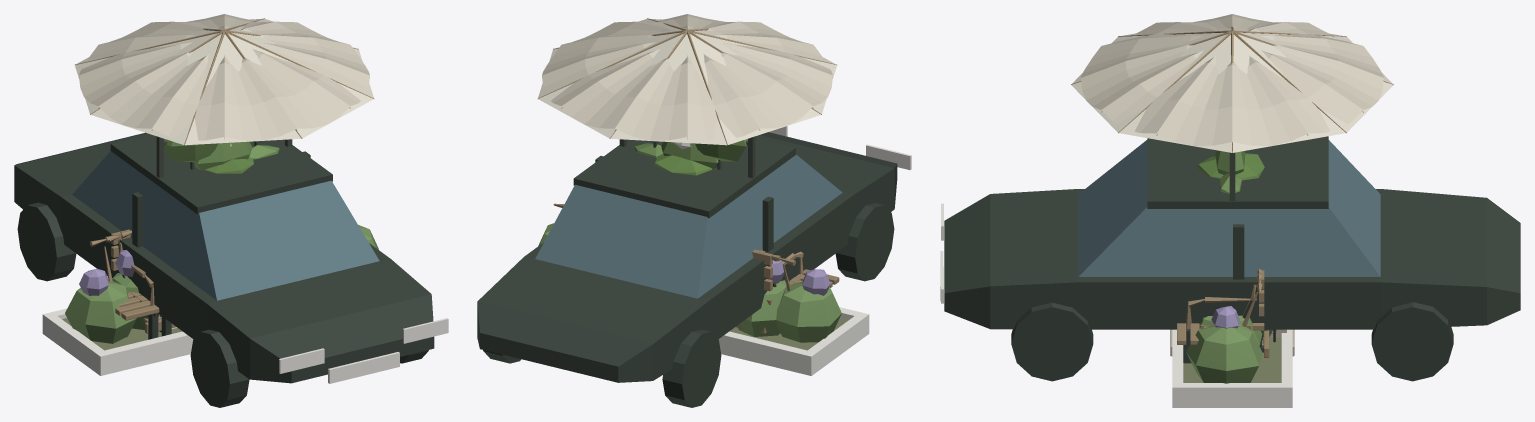
File: estate-detail.glb
The picture shows the model from 3 angles, left to right: view 1: azimuth 30°, elevation 25°; view 2: azimuth 150°, elevation 25°; view 3: azimuth 270°, elevation 25°; orthographic projection. The views are drawn at different scales.
Parts seen in each view (by area): view 1: arrival-car frame, tailored canvas combined, arrival-car car_glass, garden-parasol wall_render, garden-border leaf_broadleaf, garden-border stone_detail, arrival-car metal_pale, garden-trellis leaf_broadleaf, arm.001 combined, garden-parasol timber, garden-border surface_planted_beds, clipped bay combined light (+2 smaller); view 2: arrival-car frame, tailored canvas combined, arrival-car car_glass, garden-border leaf_broadleaf, garden-parasol wall_render, garden-border stone_detail, garden-trellis leaf_broadleaf, garden-parasol timber, clipped bay combined light, arrival-car metal_pale, arm.001 combined, garden-border surface_planted_beds (+2 smaller); view 3: arrival-car frame, tailored canvas combined, arrival-car car_glass, garden-parasol wall_render, garden-border leaf_broadleaf, garden-border stone_detail, garden-parasol timber, garden-border surface_planted_beds, arm.001 combined, clipped bay combined light, garden-trellis leaf_broadleaf.
Part boxes in pixels (<box>): arrival-car frame: <box>14,132,434,407</box>; tailored canvas combined: <box>79,14,369,140</box>; arrival-car car_glass: <box>72,151,379,300</box>; garden-parasol wall_render: <box>75,18,373,145</box>; garden-border leaf_broadleaf: <box>65,225,378,343</box>; garden-border stone_detail: <box>42,308,193,375</box>; arrival-car metal_pale: <box>279,318,448,383</box>; garden-trellis leaf_broadleaf: <box>164,139,279,170</box>; arm.001 combined: <box>90,230,159,320</box>; garden-parasol timber: <box>75,18,374,145</box>; garden-border surface_planted_beds: <box>62,318,182,350</box>; clipped bay combined light: <box>195,157,253,173</box>; arrival-car frame: <box>477,132,897,407</box>; tailored canvas combined: <box>542,14,832,140</box>; arrival-car car_glass: <box>535,154,842,298</box>; garden-border leaf_broadleaf: <box>538,223,841,342</box>; garden-parasol wall_render: <box>538,18,836,145</box>; garden-border stone_detail: <box>718,307,869,375</box>; garden-trellis leaf_broadleaf: <box>634,139,747,169</box>; garden-parasol timber: <box>537,18,836,145</box>; clipped bay combined light: <box>654,154,715,175</box>; arrival-car metal_pale: <box>769,126,911,169</box>; arm.001 combined: <box>553,203,839,290</box>; garden-border surface_planted_beds: <box>729,317,849,350</box>; arrival-car frame: <box>944,136,1520,381</box>; tailored canvas combined: <box>1081,14,1383,145</box>; arrival-car car_glass: <box>1078,140,1380,276</box>; garden-parasol wall_render: <box>1071,28,1393,152</box>; garden-border leaf_broadleaf: <box>1186,306,1272,383</box>; garden-border stone_detail: <box>1172,329,1292,407</box>; garden-parasol timber: <box>1071,26,1393,153</box>; garden-border surface_planted_beds: <box>1183,337,1281,382</box>; arm.001 combined: <box>1177,269,1262,344</box>; clipped bay combined light: <box>1197,153,1264,180</box>; garden-trellis leaf_broadleaf: <box>1215,150,1245,194</box>.
Size of the model in its own units: 2.96 by 2.66 by 4.67.
